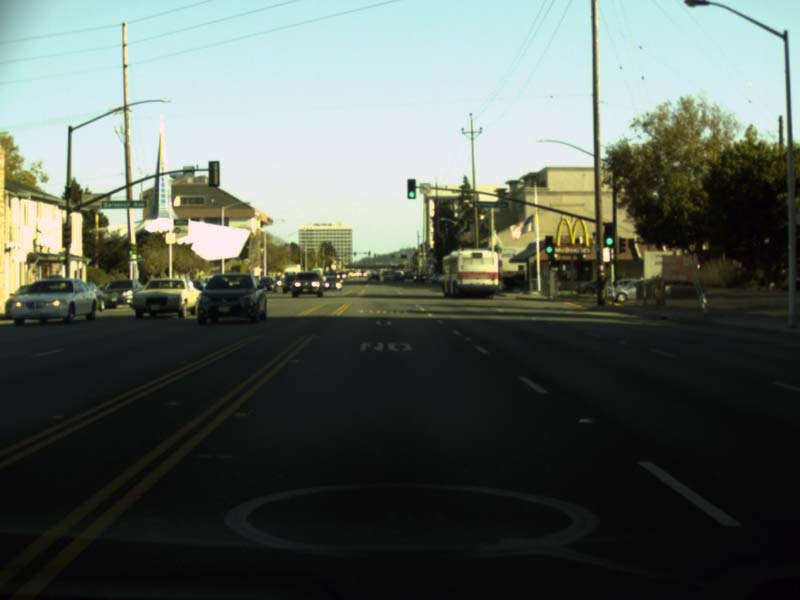Green: (603, 223, 614, 246), (405, 177, 416, 199), (545, 234, 553, 253)
